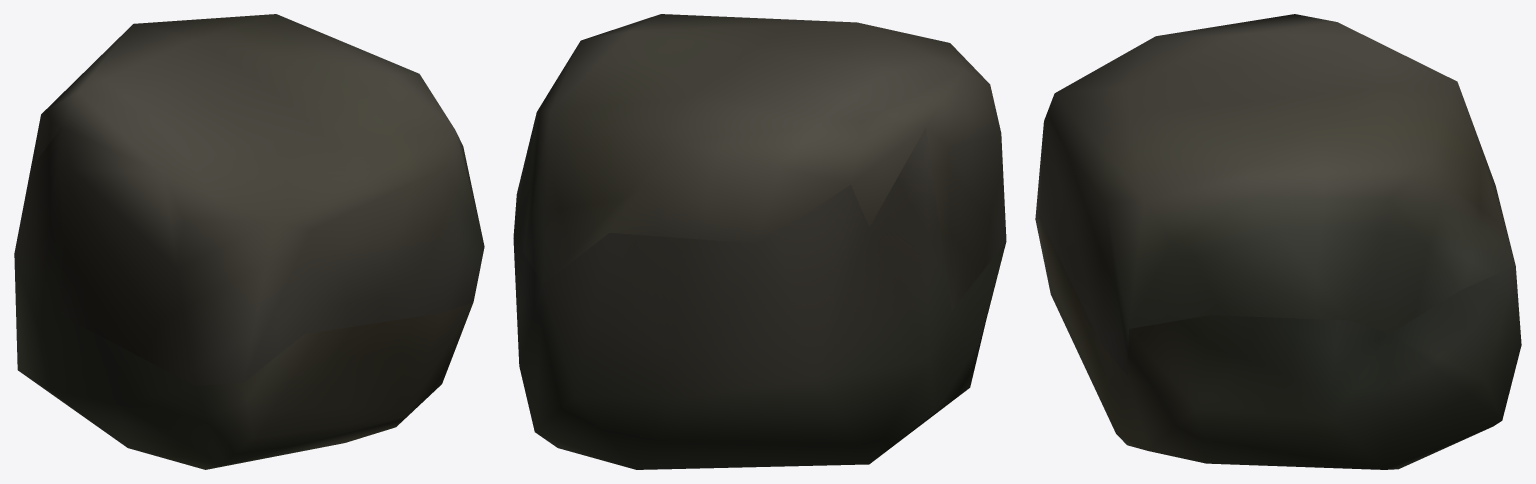
3 views of the same model, side by side, from view 1: azimuth 30°, elevation 25°; view 2: azimuth 150°, elevation 25°; view 3: azimuth 270°, elevation 25° (orthographic). The views are drawn at different scales.
Visible parts, largest first — view 1: smallrock3; view 2: smallrock3; view 3: smallrock3.
Part boxes in pixels (x1,y1,x2,y2): smallrock3: (14,14,484,469); smallrock3: (513,14,1006,469); smallrock3: (1035,14,1521,469).
Size of the model in its own units: 0.8845 by 0.7542 by 0.9996.
1 material, 1 textured.
